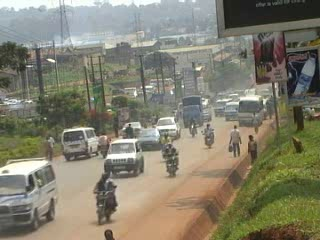Car: (102, 140, 146, 175), (156, 113, 181, 138), (141, 128, 159, 149), (122, 120, 142, 135)
Motorcycle: (94, 193, 112, 225), (165, 157, 179, 178), (204, 135, 212, 149), (99, 145, 106, 159), (188, 126, 196, 138)
